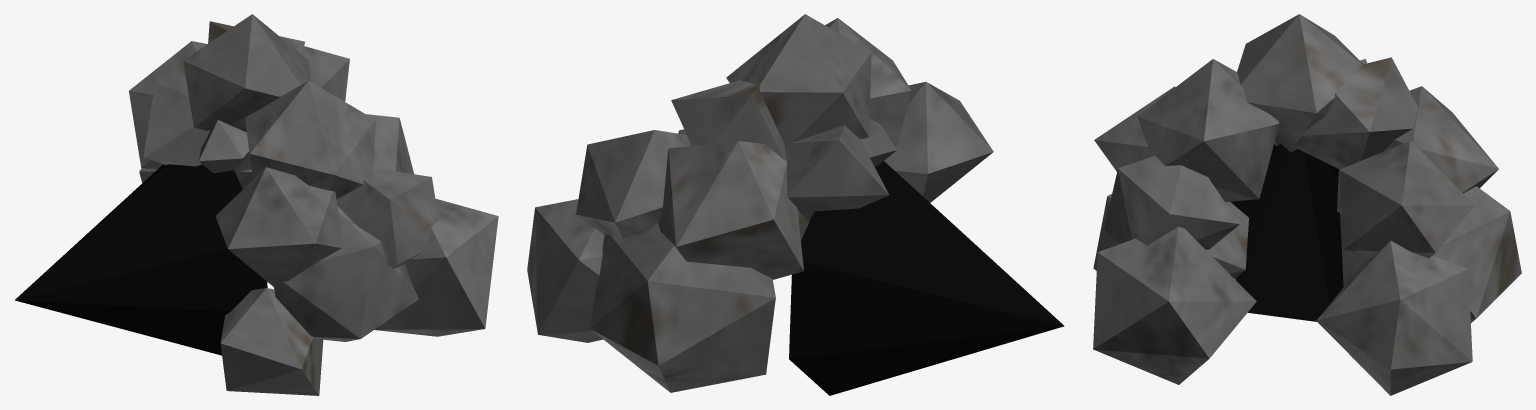
File: UnseemlyTales_Assetset.fbx
3 renders of one model, left to right at view 1: azimuth 30°, elevation 25°; view 2: azimuth 150°, elevation 25°; view 3: azimuth 270°, elevation 25°, orthographic. The views are drawn at different scales.
Parts seen in each view (by area): view 1: Icosphere.002; view 2: Icosphere.002; view 3: Icosphere.002.
Part boxes in pixels (bbox=[...]): Icosphere.002: bbox=[15, 14, 498, 395]; Icosphere.002: bbox=[527, 14, 1064, 395]; Icosphere.002: bbox=[1093, 14, 1521, 395].
Bounding box in the file's own units: 2660 × 1866 × 2203.
